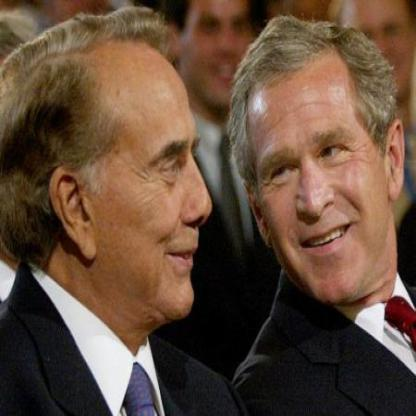face: (75, 15, 221, 331), (254, 27, 383, 308), (183, 1, 254, 110), (343, 1, 415, 106)
